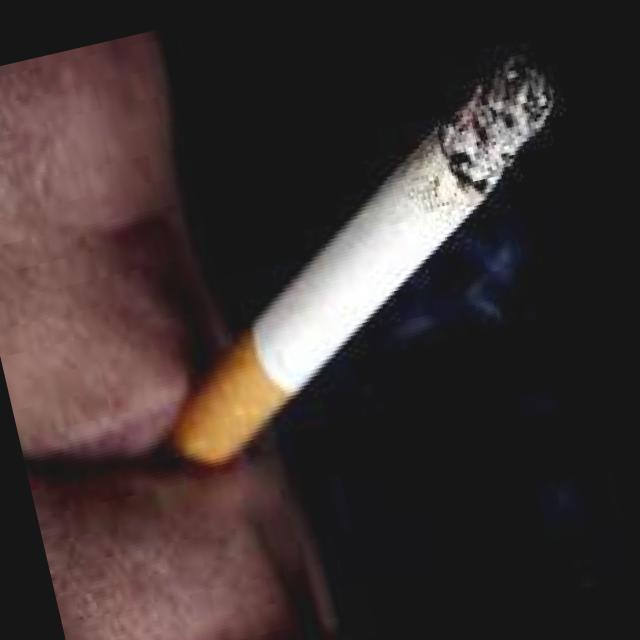smoke: (99, 31, 626, 488)
